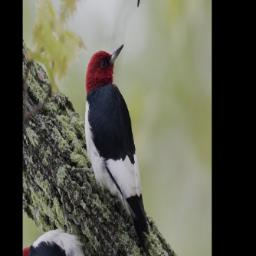Woodpecker: (55, 11, 197, 256)
